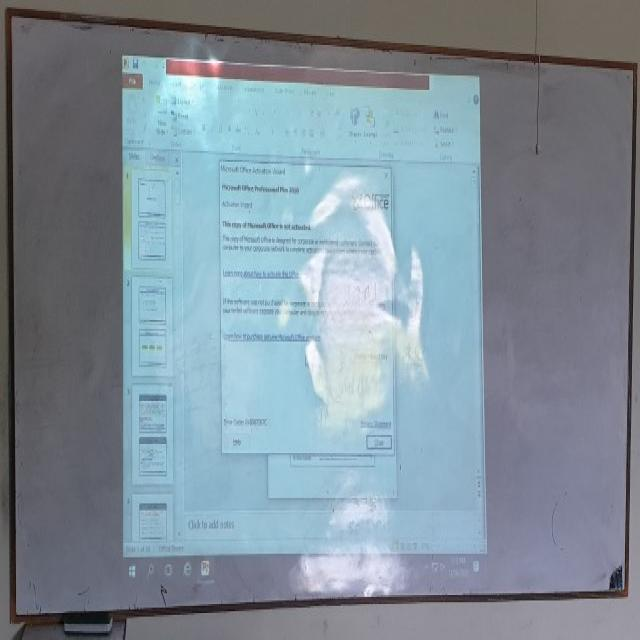Slide: (122, 50, 487, 593)
White-board: (11, 13, 636, 620)
